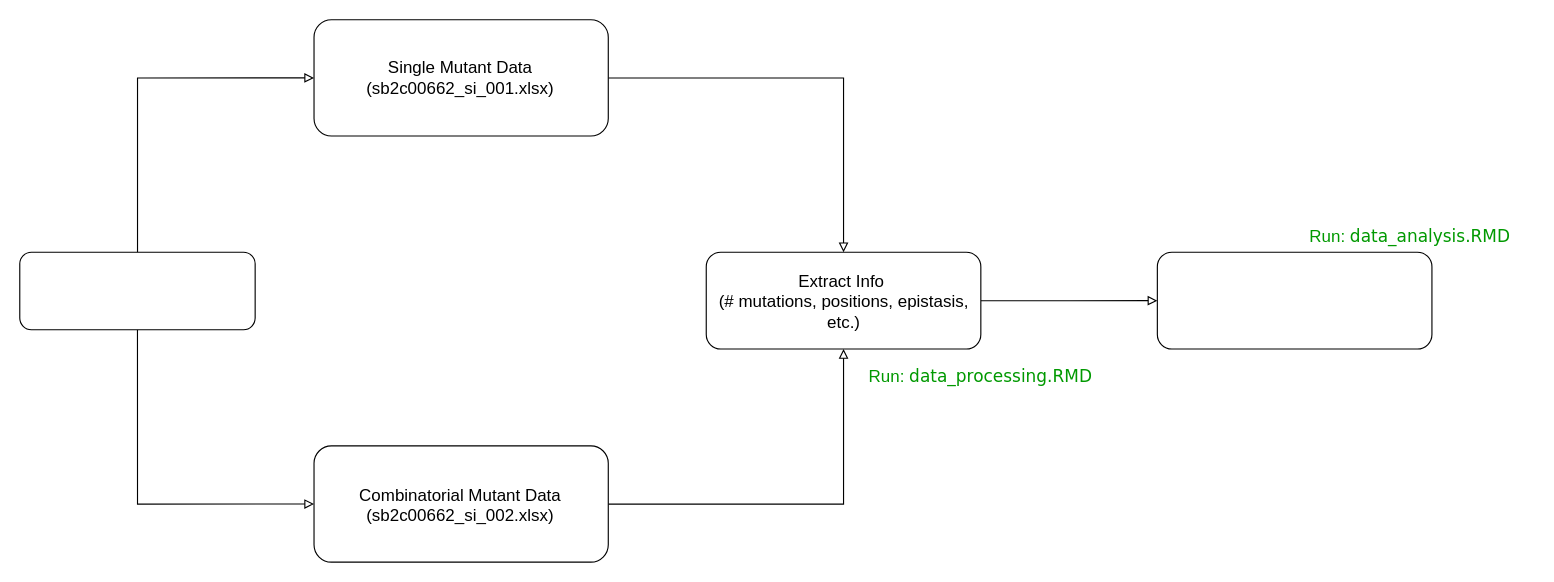
Some shapes in this 1554 by 582 pixel diagram are drawn without their labels. Each missing label, with the box of its shape:
Analyze data (reproduce figures): (1156, 251, 1432, 349)
Raw Data: (19, 251, 255, 330)
